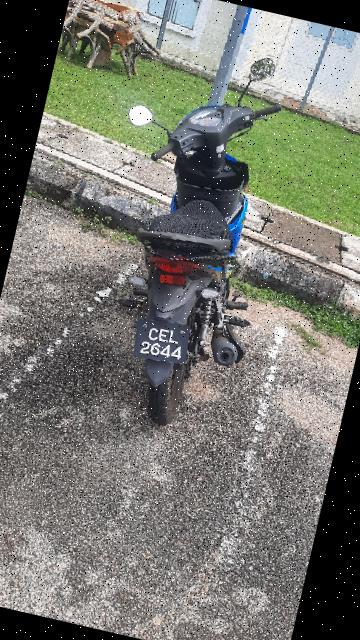License_Plate: (127, 312, 204, 377)
motorcycle: (62, 31, 317, 443)
